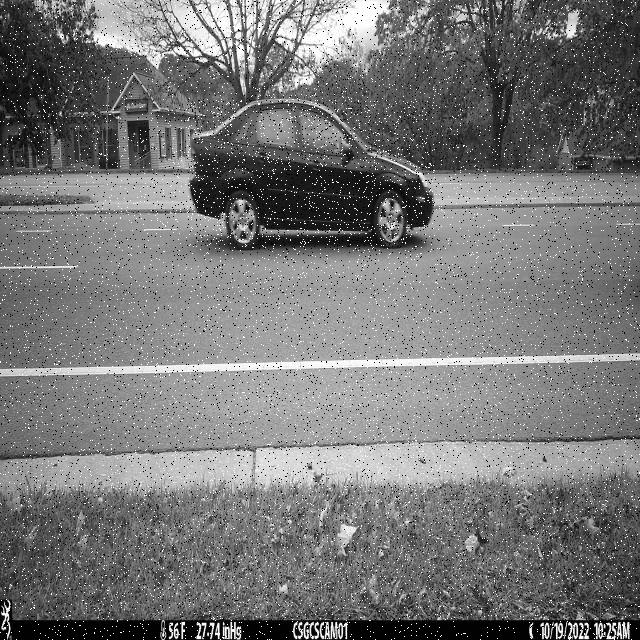Sedan: (188, 99, 434, 250)
